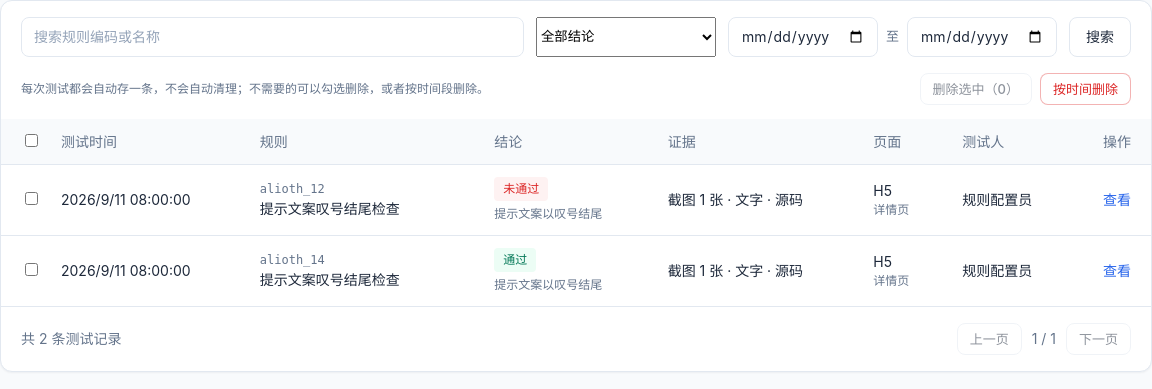
Scenario: 规则测试记录 › 全选只选本页
The width and height of the screenshot is (1152, 389).
Click the checkbox with test id "rule-test-records-select-all". click: (32, 140)
box: [25,134,38,147]
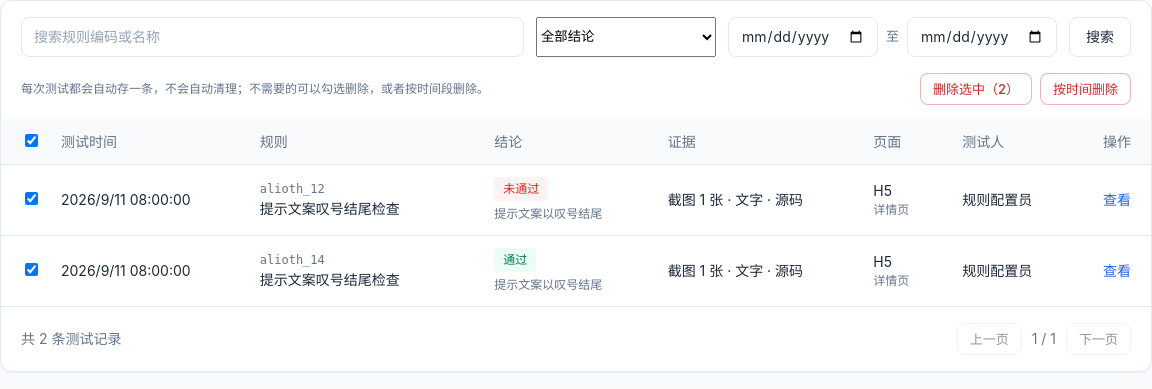
Check: the button with test id "rule-test-records-delete-selected" reads "删除选中（2）", box [920,73,1032,105]
